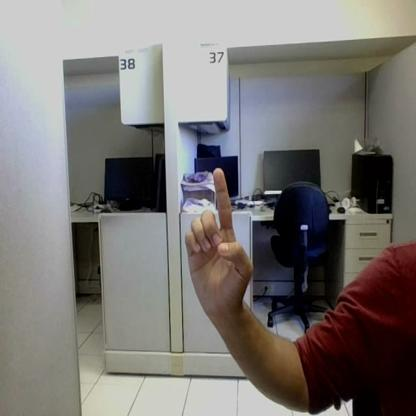D: (185, 167, 252, 311)
